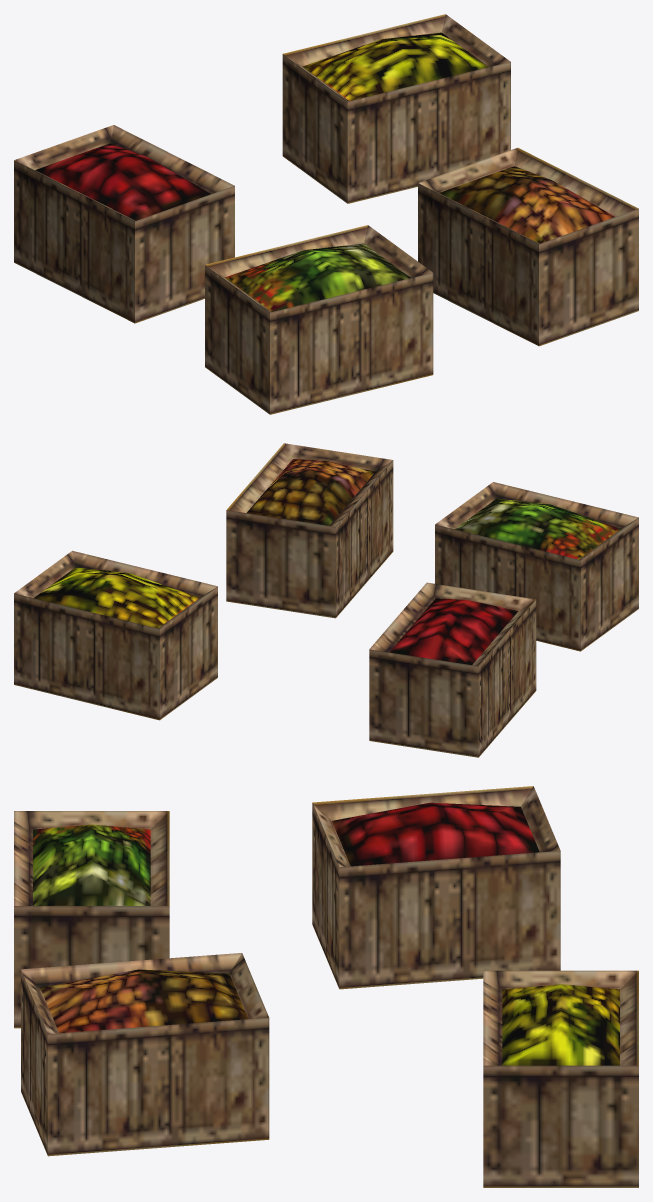
Rendered from produce_bins_a.dae.
3 renders of one model, top to bottom at view 1: azimuth 30°, elevation 25°; view 2: azimuth 150°, elevation 25°; view 3: azimuth 270°, elevation 25°, orthographic. The views are drawn at different scales.
Parts seen in each view (by area): view 1: Object25; view 2: Object25; view 3: Object25.
Part boxes in pixels (x1=…): Object25: x1=14, y1=14, x2=638, y2=414; Object25: x1=14, y1=443, x2=638, y2=757; Object25: x1=14, y1=786, x2=638, y2=1187.
Size of the model in its own units: 7.68 by 7.32 by 1.86.
